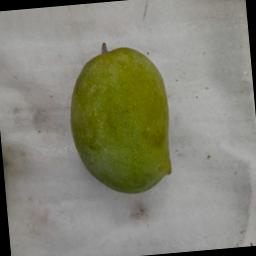Mango Ripe: (22, 0, 256, 253)
